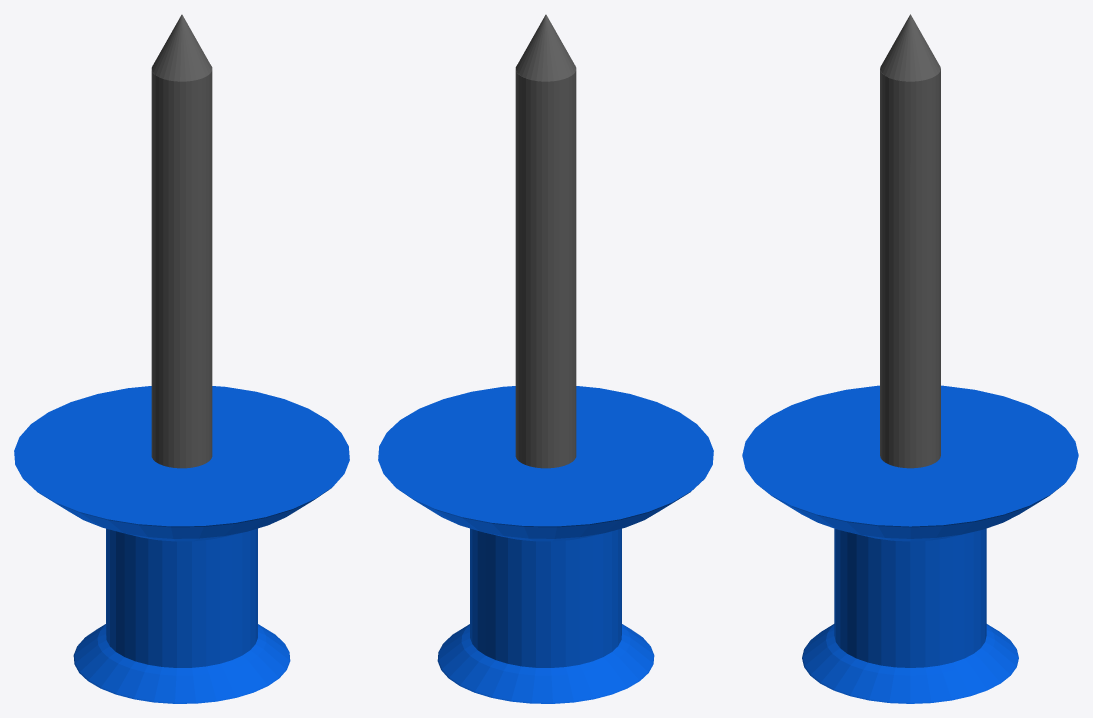
The model's file is thumbtack.fbx.
The picture shows the model from 3 angles, left to right: view 1: azimuth 30°, elevation 25°; view 2: azimuth 150°, elevation 25°; view 3: azimuth 270°, elevation 25°; orthographic projection.
Parts seen in each view (by area): view 1: Sphere.001, Cylinder.001, Cylinder, Sphere, Cone; view 2: Sphere.001, Cylinder.001, Cylinder, Sphere, Cone; view 3: Sphere.001, Cylinder.001, Cylinder, Sphere, Cone.
Part boxes in pixels (left/top/right/bottom): Sphere.001: left=14, top=386, right=349, bottom=541; Cylinder.001: left=151, top=66, right=212, bottom=468; Cylinder: left=106, top=528, right=257, bottom=667; Sphere: left=73, top=624, right=290, bottom=703; Cone: left=152, top=14, right=211, bottom=81; Sphere.001: left=378, top=386, right=713, bottom=541; Cylinder.001: left=515, top=66, right=576, bottom=468; Cylinder: left=470, top=528, right=621, bottom=667; Sphere: left=437, top=624, right=654, bottom=703; Cone: left=516, top=14, right=575, bottom=81; Sphere.001: left=742, top=385, right=1078, bottom=541; Cylinder.001: left=880, top=67, right=940, bottom=468; Cylinder: left=834, top=528, right=986, bottom=667; Sphere: left=802, top=624, right=1018, bottom=703; Cone: left=880, top=14, right=940, bottom=81.
Bounding box in the file's own units: 221 × 467 × 221.
